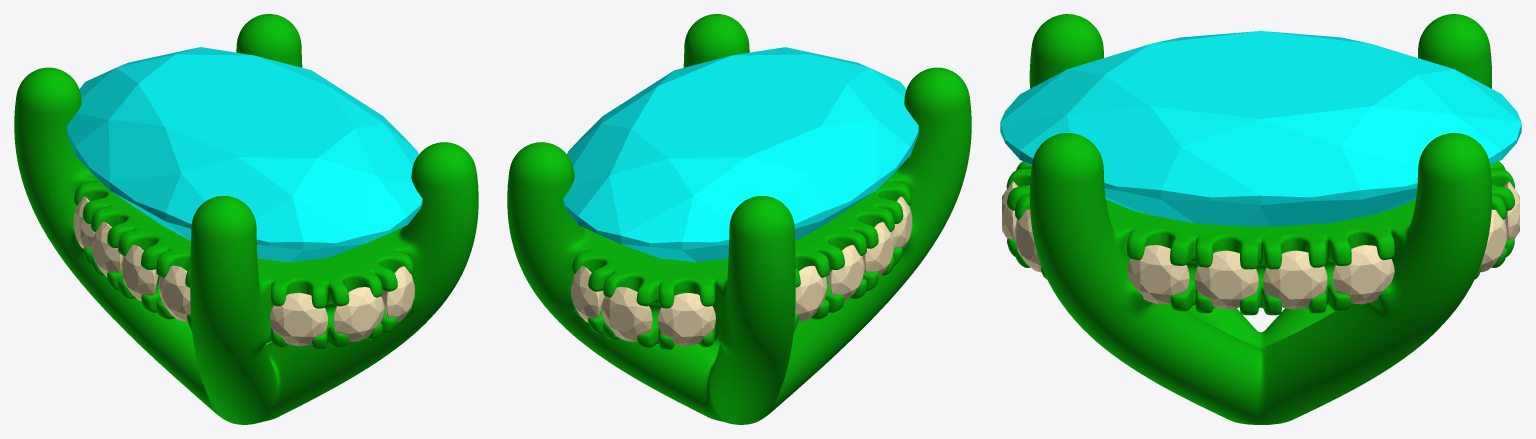
The picture shows the model from 3 angles, left to right: view 1: azimuth 30°, elevation 25°; view 2: azimuth 150°, elevation 25°; view 3: azimuth 270°, elevation 25°; orthographic projection. The views are drawn at different scales.
Visible parts, largest first — view 1: Metal01, Diamond_Oval, Diamond_Round.009, Diamond_Round.008, Diamond_Round.010, Diamond_Round.011, Diamond_Round.007, Diamond_Round.012, Diamond_Round.013; view 2: Metal01, Diamond_Oval, Diamond_Round, Diamond_Round.001, Diamond_Round.013, Diamond_Round.012, Diamond_Round.002, Diamond_Round.011, Diamond_Round.010; view 3: Metal01, Diamond_Oval, Diamond_Round.004, Diamond_Round.005, Diamond_Round.003, Diamond_Round.006, Diamond_Round.002, Diamond_Round.007, Diamond_Round.001, Diamond_Round.008.
Boxes of the visible parts, x1,y1,x2,y2 form: Metal01: (14,14,478,424); Diamond_Oval: (67,47,422,262); Diamond_Round.009: (270,292,327,346); Diamond_Round.008: (333,287,384,341); Diamond_Round.010: (158,265,190,321); Diamond_Round.011: (121,245,158,301); Diamond_Round.007: (381,266,414,322); Diamond_Round.012: (92,222,122,276); Diamond_Round.013: (73,196,94,248); Metal01: (507,14,971,424); Diamond_Oval: (563,47,918,262); Diamond_Round: (657,292,715,346); Diamond_Round.001: (601,287,652,341); Diamond_Round.013: (795,265,827,321); Diamond_Round.012: (827,245,864,301); Diamond_Round.002: (571,266,604,322); Diamond_Round.011: (863,222,893,276); Diamond_Round.010: (891,196,912,248); Metal01: (1006,14,1515,424); Diamond_Oval: (1000,31,1521,226); Diamond_Round.004: (1263,250,1327,309); Diamond_Round.005: (1194,250,1258,309); Diamond_Round.003: (1332,245,1394,304); Diamond_Round.006: (1127,245,1189,304); Diamond_Round.002: (1480,209,1507,272); Diamond_Round.007: (1014,209,1041,272); Diamond_Round.001: (1503,181,1519,240); Diamond_Round.008: (1002,181,1018,240).
Bounding box in the file's own units: 5.53 × 5.78 × 8.12.
